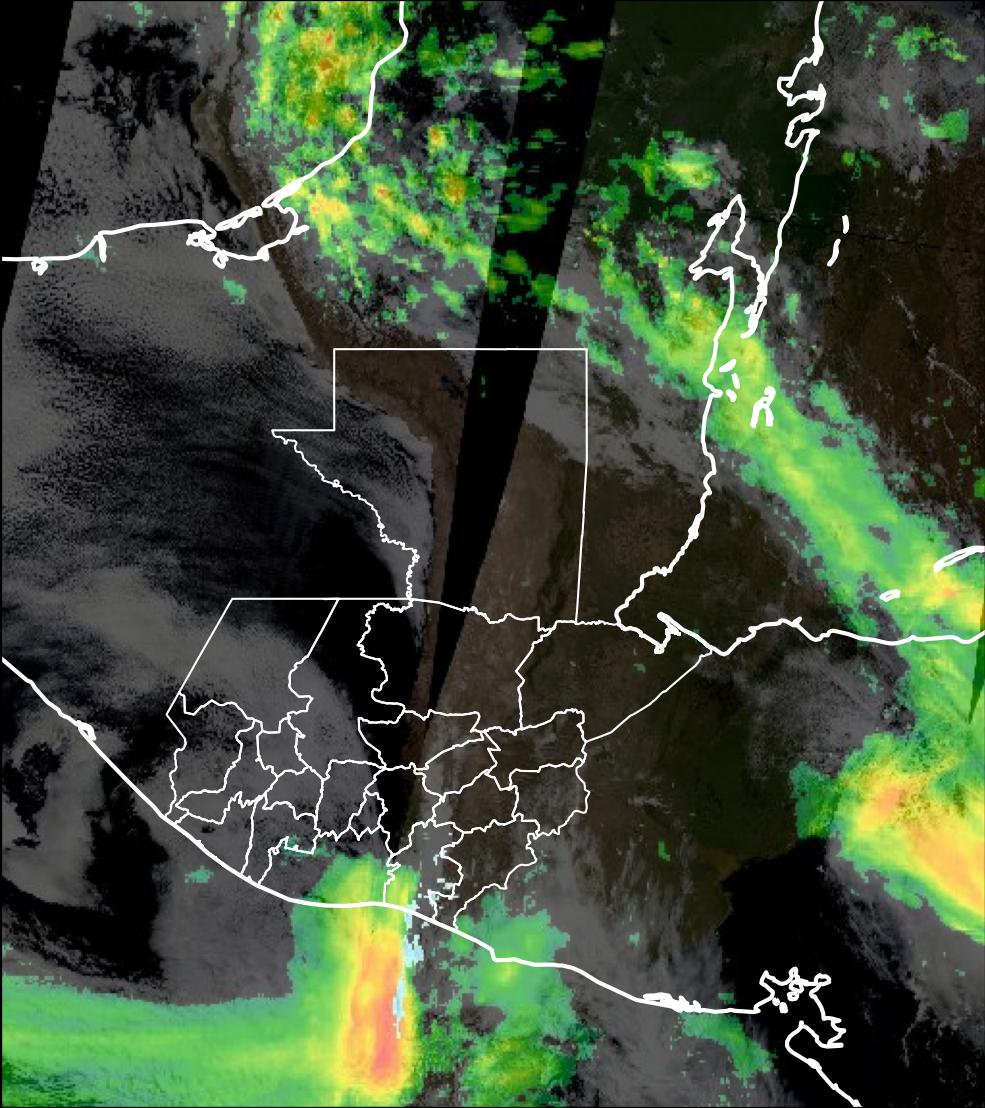precipitacion: (827, 729, 985, 951)
